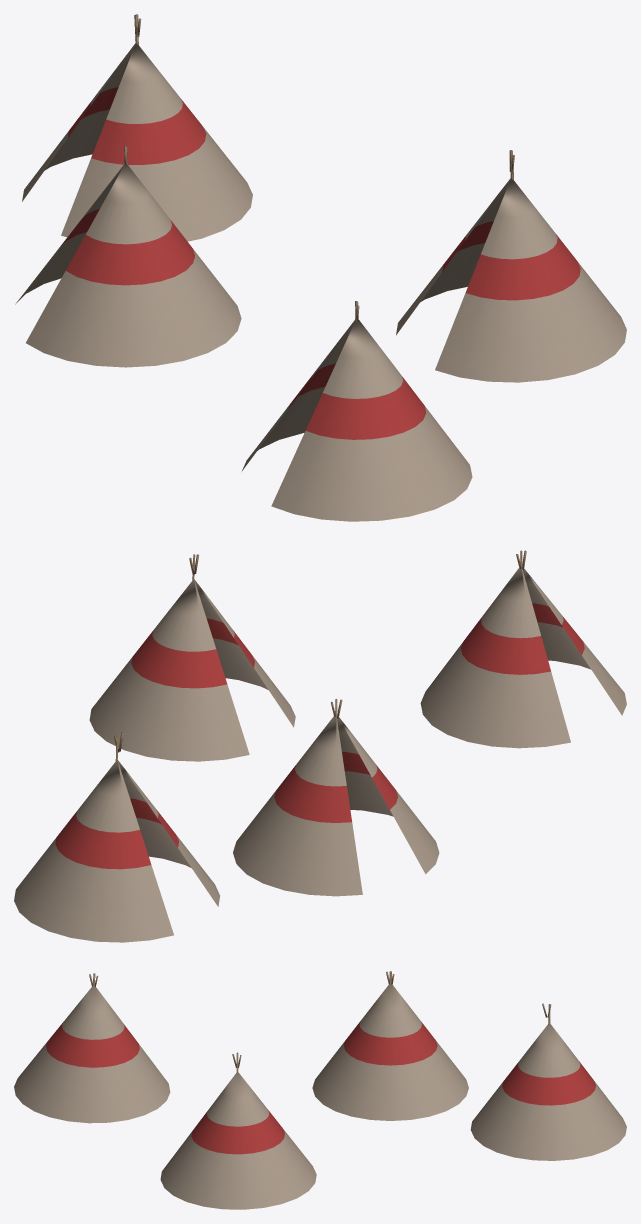
File: tipi.obj
3 renders of one model, top to bottom at view 1: azimuth 30°, elevation 25°; view 2: azimuth 150°, elevation 25°; view 3: azimuth 270°, elevation 25°, orthographic. The views are drawn at different scales.
Visible parts, largest first — view 1: Cone001, Cone002, Cone003, Cone005; view 2: Cone005, Cone003, Cone002, Cone001; view 3: Cone002, Cone001, Cone003, Cone005.
Part boxes in pixels (x1,y1,x2,y2): Cone001: (15, 164, 241, 367); Cone002: (242, 319, 472, 521); Cone003: (396, 177, 626, 382); Cone005: (22, 42, 252, 241); Cone005: (14, 759, 219, 942); Cone003: (89, 579, 295, 761); Cone002: (420, 566, 626, 748); Cone001: (233, 714, 439, 896); Cone002: (14, 985, 170, 1123); Cone001: (312, 983, 468, 1120); Cone003: (160, 1072, 316, 1209); Cone005: (470, 1023, 626, 1160).
Bounding box in the file's own units: 81.14 × 30.72 × 134.
Materials: 3 (3 with a texture image).
